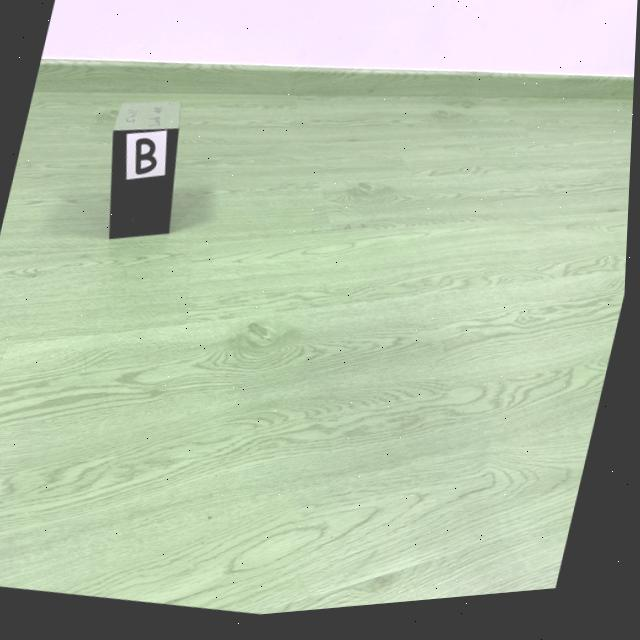B: (136, 140, 159, 178)
